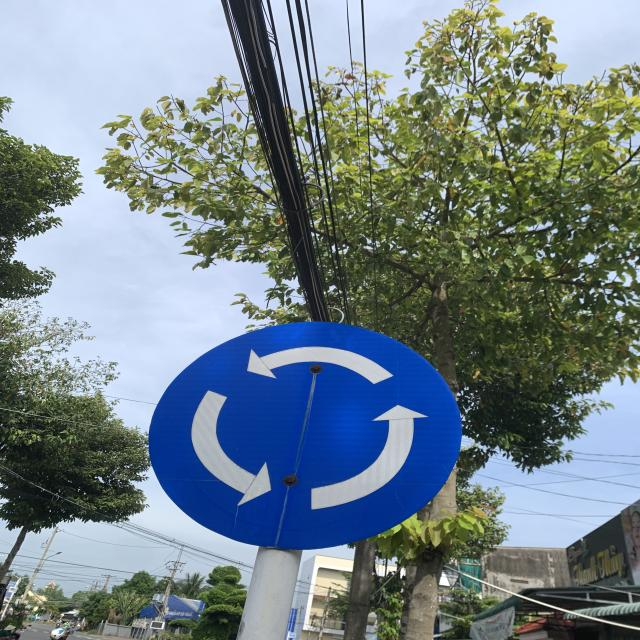Xe_Bus: (146, 322, 461, 552)
